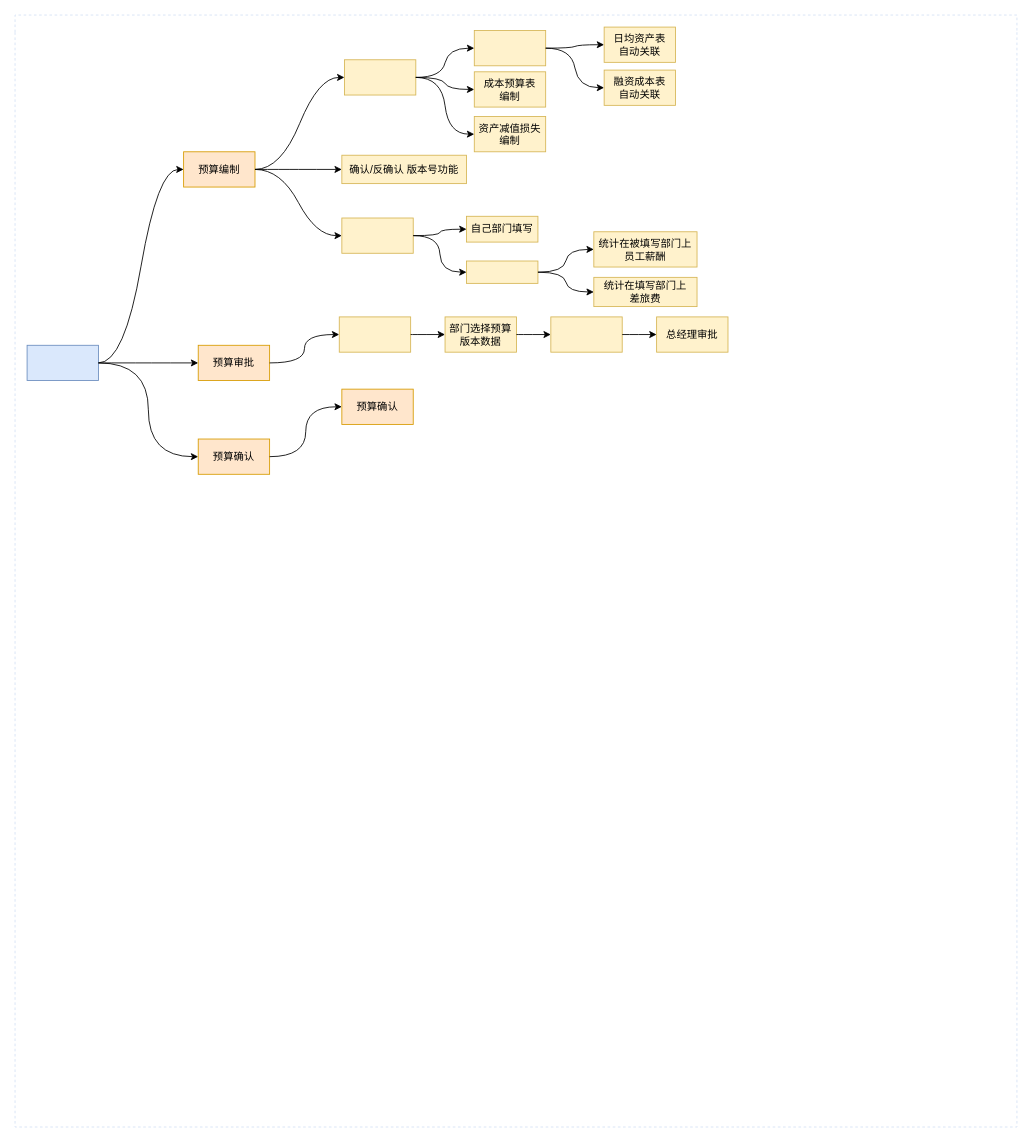
Image size: 1032x1142. Some labels were removed from this diagram. The centre of each missing label's shape, as x and y in pixels:
"利润预算表 编制" belongs at (x=380, y=77).
"别的部门填写" belongs at (x=502, y=271).
"收入预算表 编制" belongs at (x=509, y=48).
"财务发起" belongs at (x=374, y=334).
"财务经理审批" belongs at (x=586, y=334).
"费用总表" belongs at (x=377, y=235).
"预算系统" belongs at (x=62, y=362).
